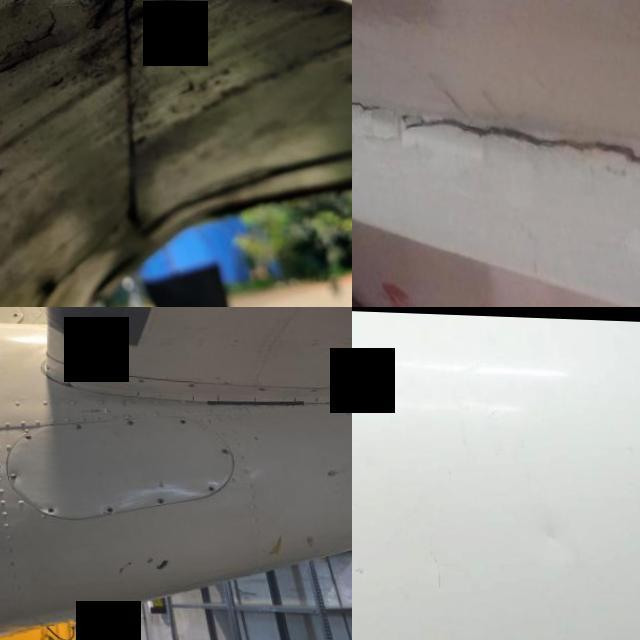Crack: (352, 94, 640, 167)
Dent: (535, 515, 571, 559)
Missing_Fastener: (202, 482, 215, 490), (20, 430, 30, 440), (42, 503, 52, 512), (100, 504, 110, 512), (176, 414, 184, 422), (8, 312, 16, 316), (134, 376, 144, 379), (186, 381, 194, 384), (86, 370, 92, 372)
